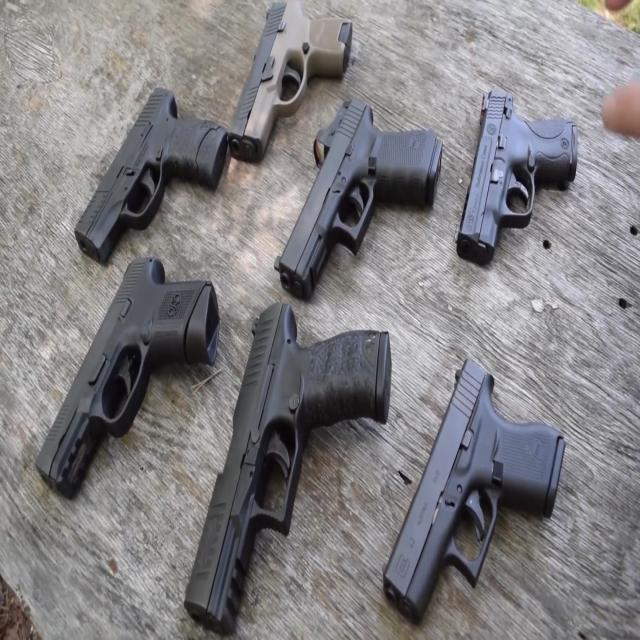handgun: (170, 292, 403, 616), (375, 329, 568, 615), (28, 255, 226, 502), (69, 62, 244, 287), (264, 94, 448, 294), (445, 75, 580, 290), (227, 0, 358, 160)
